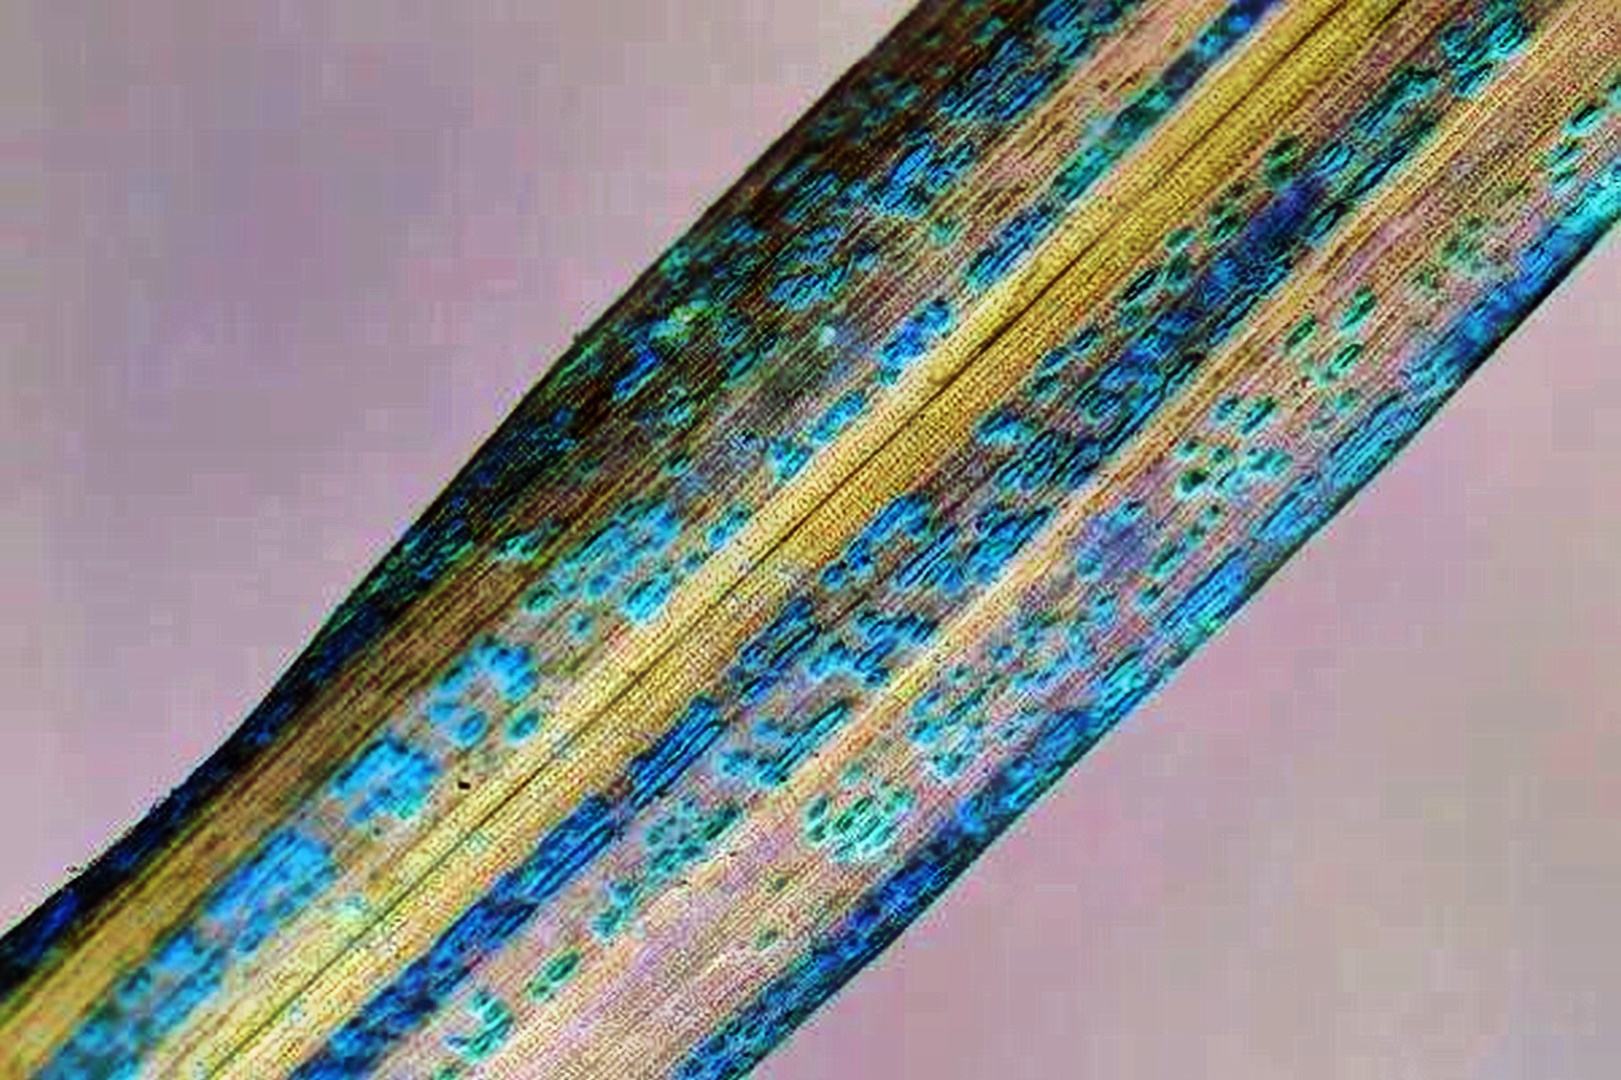Leaf Rust: (258, 54, 1437, 1043)
